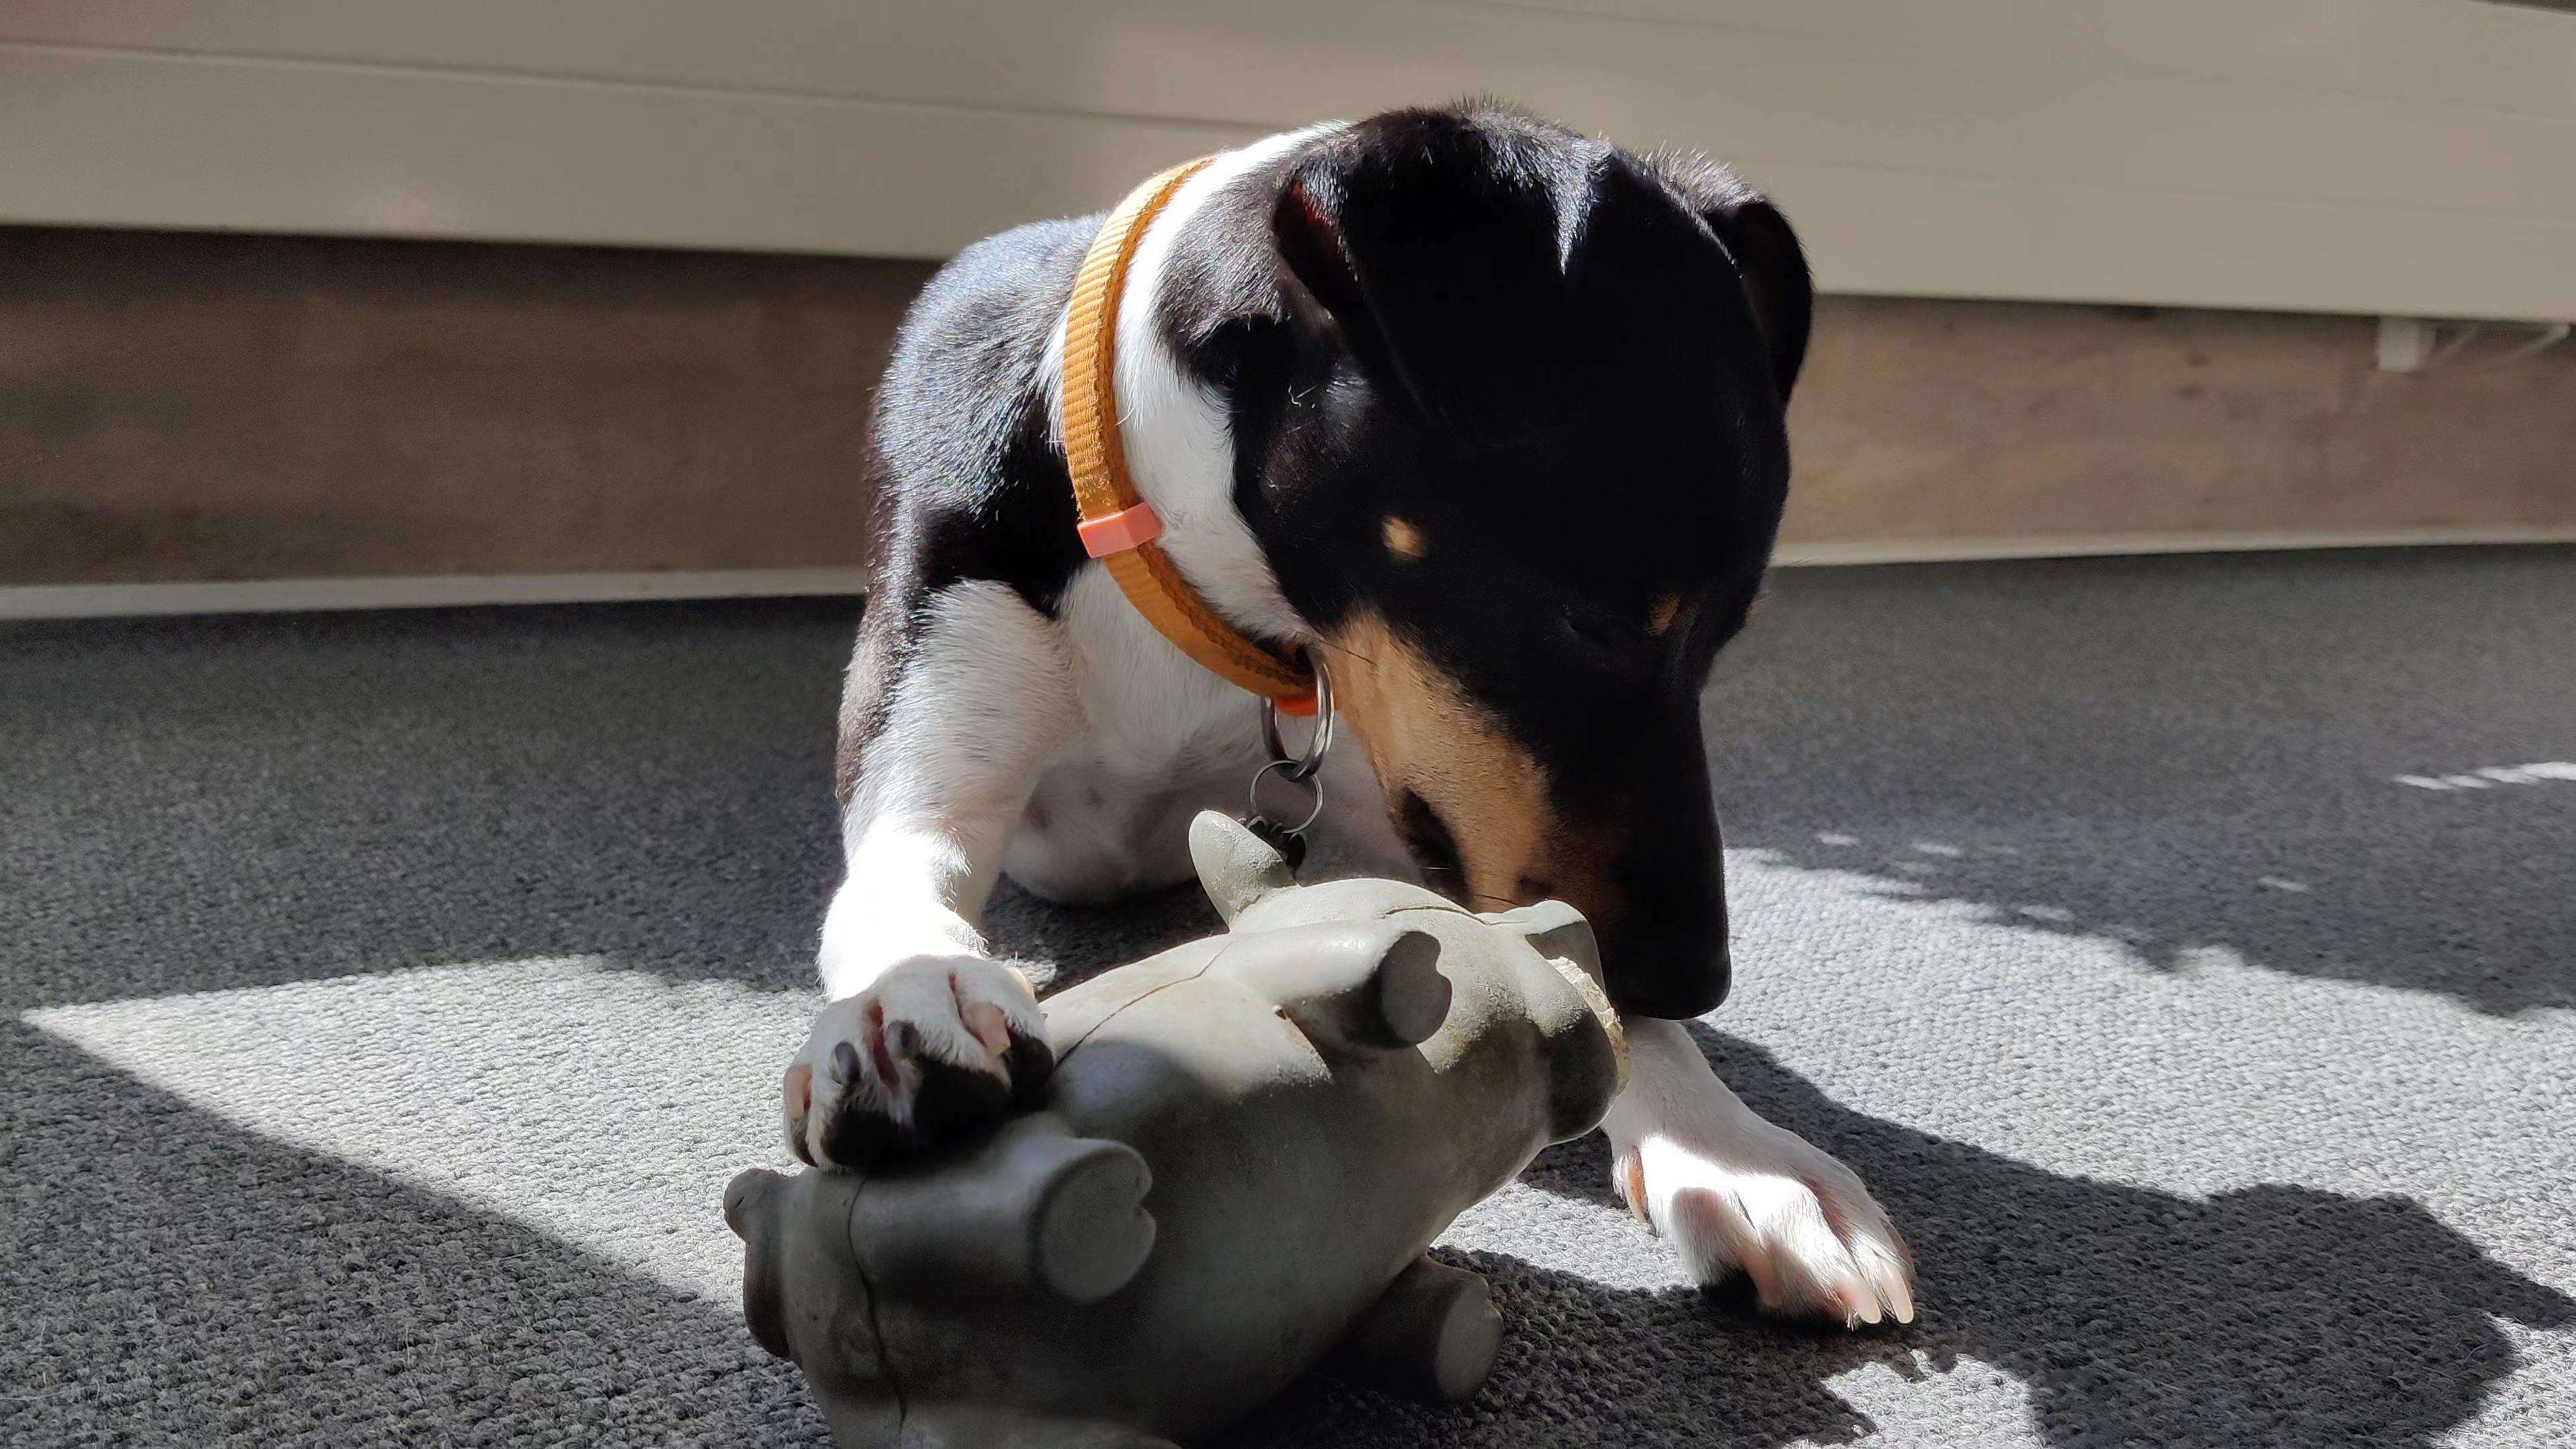Dog: (708, 90, 1962, 1345)
